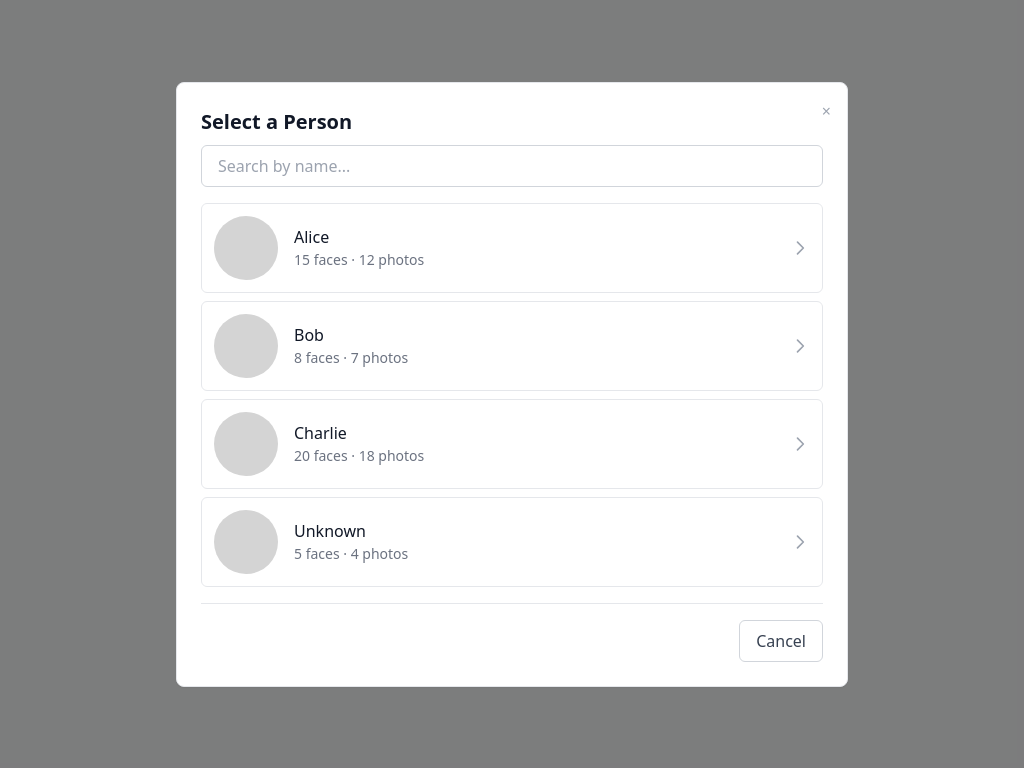
Scenario: ClusterPicker › should show no results message when search has no matches
The width and height of the screenshot is (1024, 768).
In the field with placeholder "Search by name...": (512, 166) left=201, top=144, right=823, bottom=186, type "nonexistent"
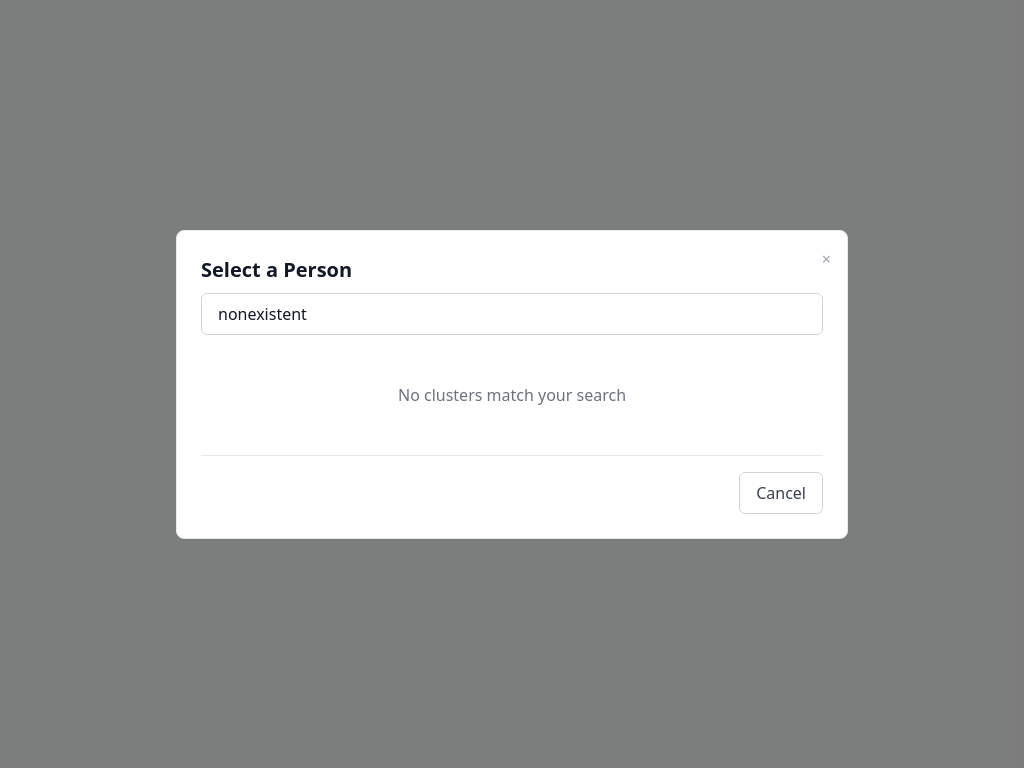
Expected: the text "No clusters match your search" is shown, left=398, top=382, right=626, bottom=406
